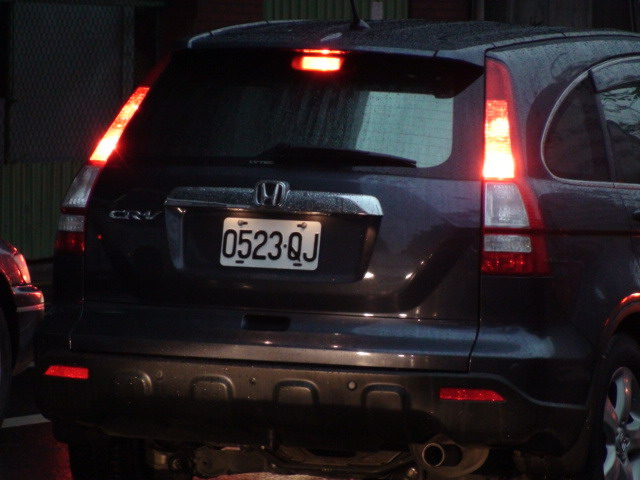plate: (217, 213, 328, 274)
